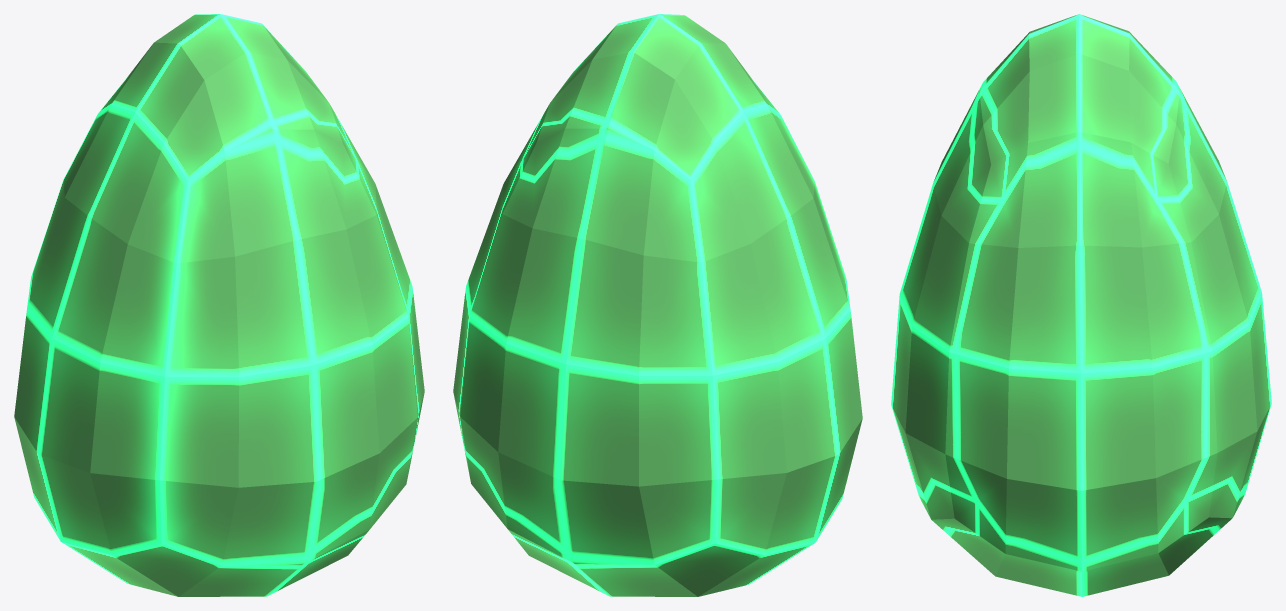
The model's file is Egg.glb.
The picture shows the model from 3 angles, left to right: view 1: azimuth 30°, elevation 25°; view 2: azimuth 150°, elevation 25°; view 3: azimuth 270°, elevation 25°; orthographic projection.
Visible parts, largest first — view 1: Egg with Animation; view 2: Egg with Animation; view 3: Egg with Animation.
Part boxes in pixels (bbox=[...]): Egg with Animation: bbox=[14, 14, 424, 596]; Egg with Animation: bbox=[453, 14, 862, 596]; Egg with Animation: bbox=[891, 14, 1271, 596].
Size of the model in its own units: 0.9174 by 1.37 by 0.8496.
